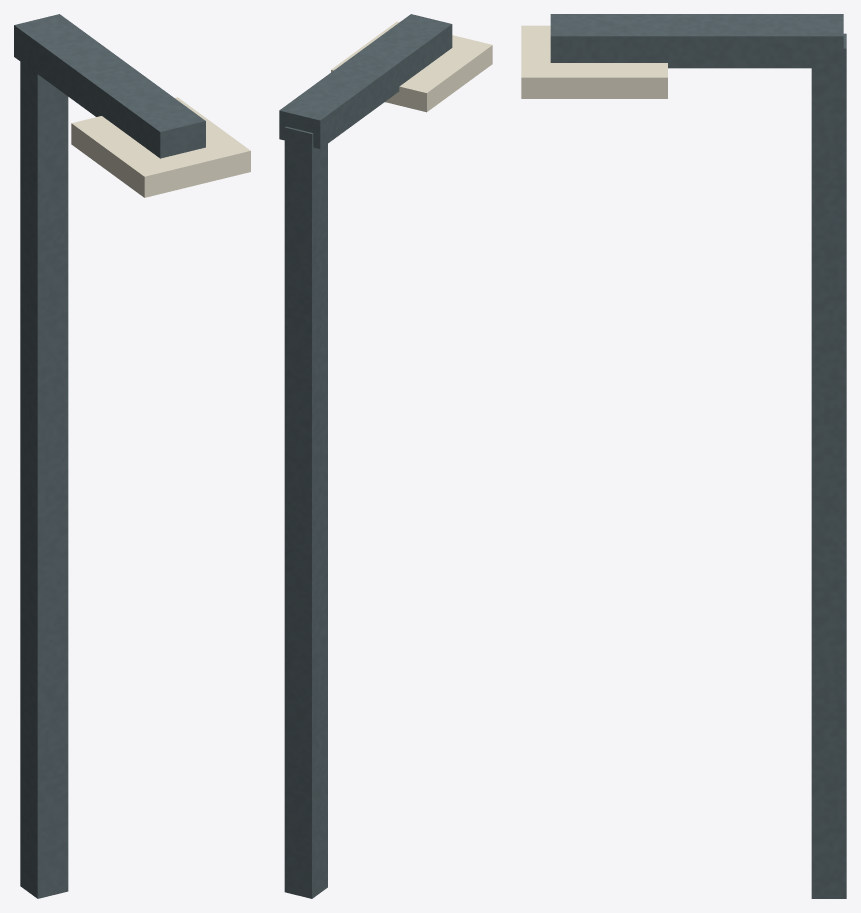
Rendered from street-lamp.glb.
The picture shows the model from 3 angles, left to right: view 1: azimuth 30°, elevation 25°; view 2: azimuth 150°, elevation 25°; view 3: azimuth 270°, elevation 25°; orthographic projection. The views are drawn at different scales.
Bounding box in the file's own units: 0.42 × 3.26 × 1.11.
Materials: 2 (1 with a texture image).
